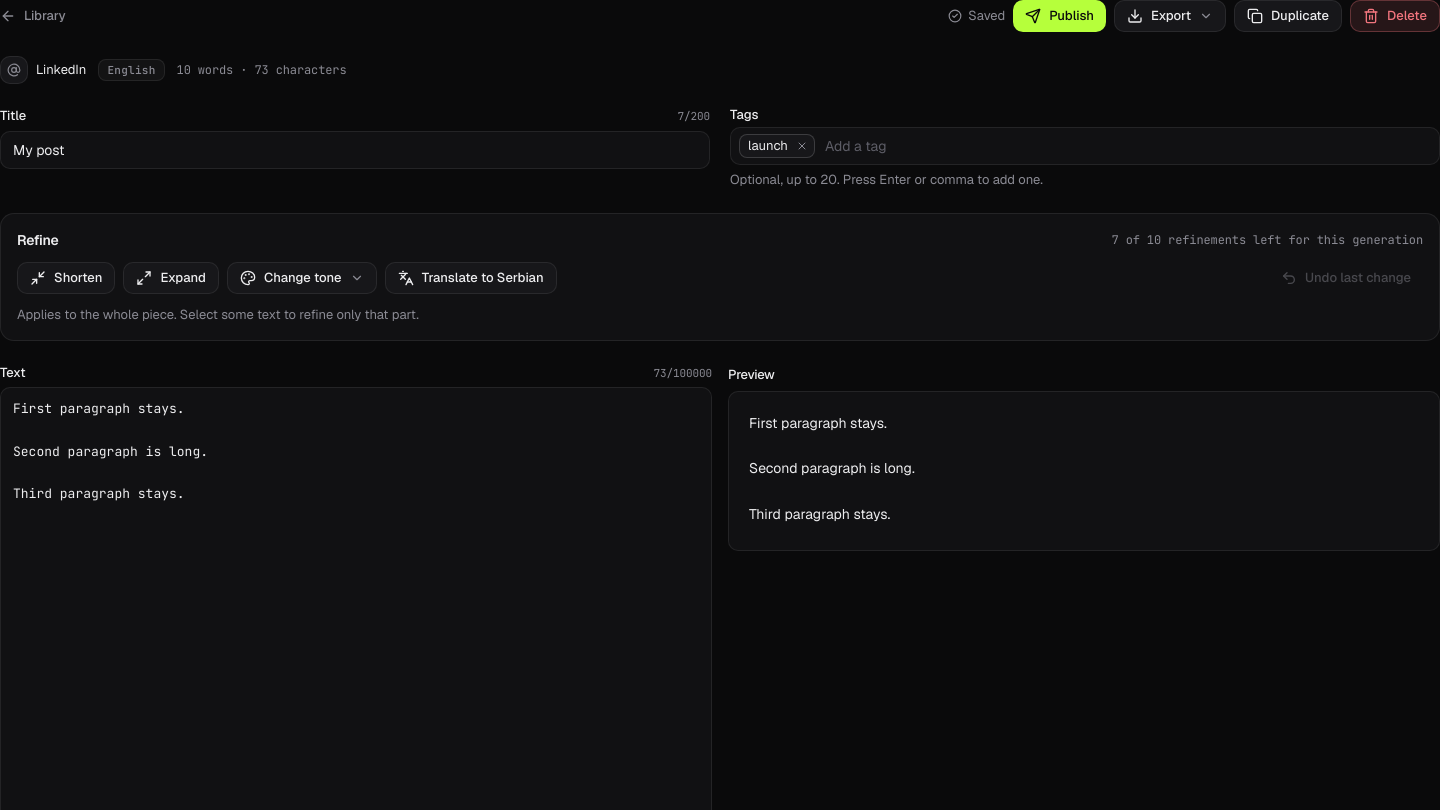
Scenario: ContentEditor › shows the server's reason when a refine is refused, and changes nothing
Click the button "Translate to Serbian" at (471, 278), box top-left (385, 262), bottom-right (557, 294)
(page scrolled)
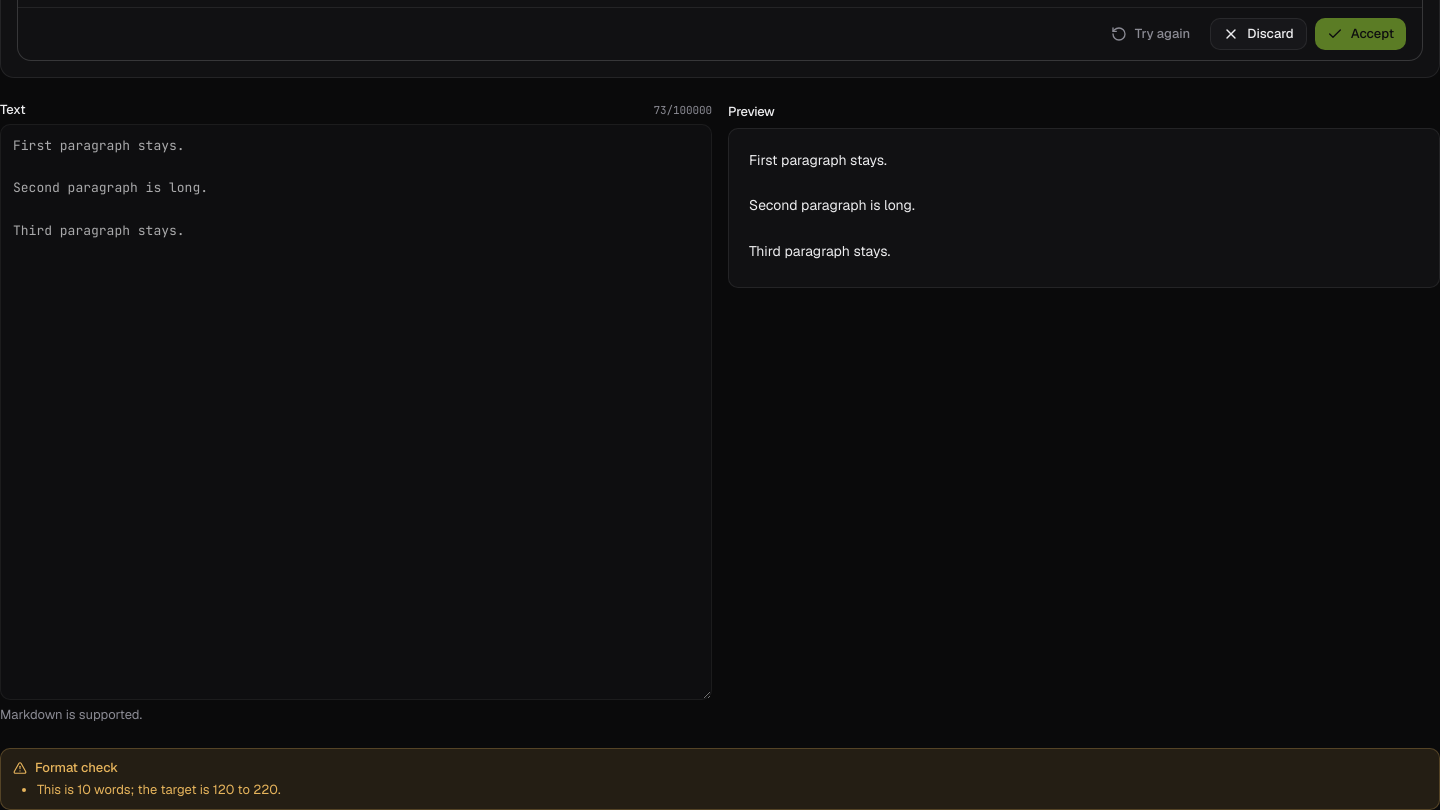
Now the button "Accept" is disabled, box top-left (1315, 18), bottom-right (1406, 50)
